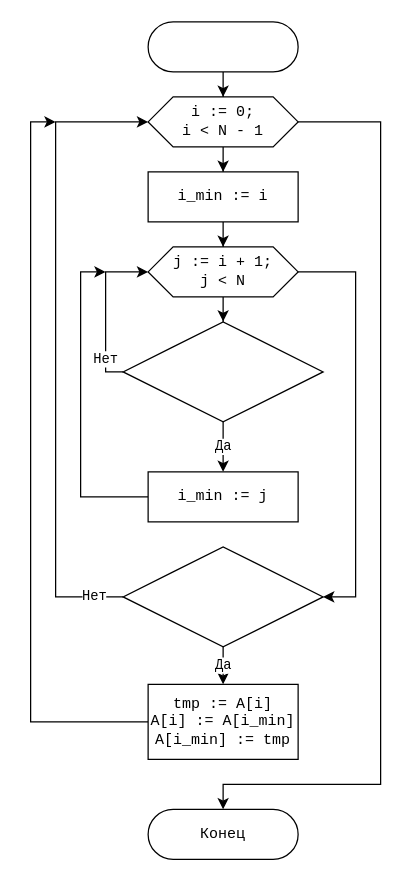
The diagram is 413 pixels wide and 881 high, and some of its shapes have lost their labels. Each missing label, with the centre of its shape:
A[j] < A[i_min]: [222,371]
i_min != i: [222,596]
Начало: [222,46]
